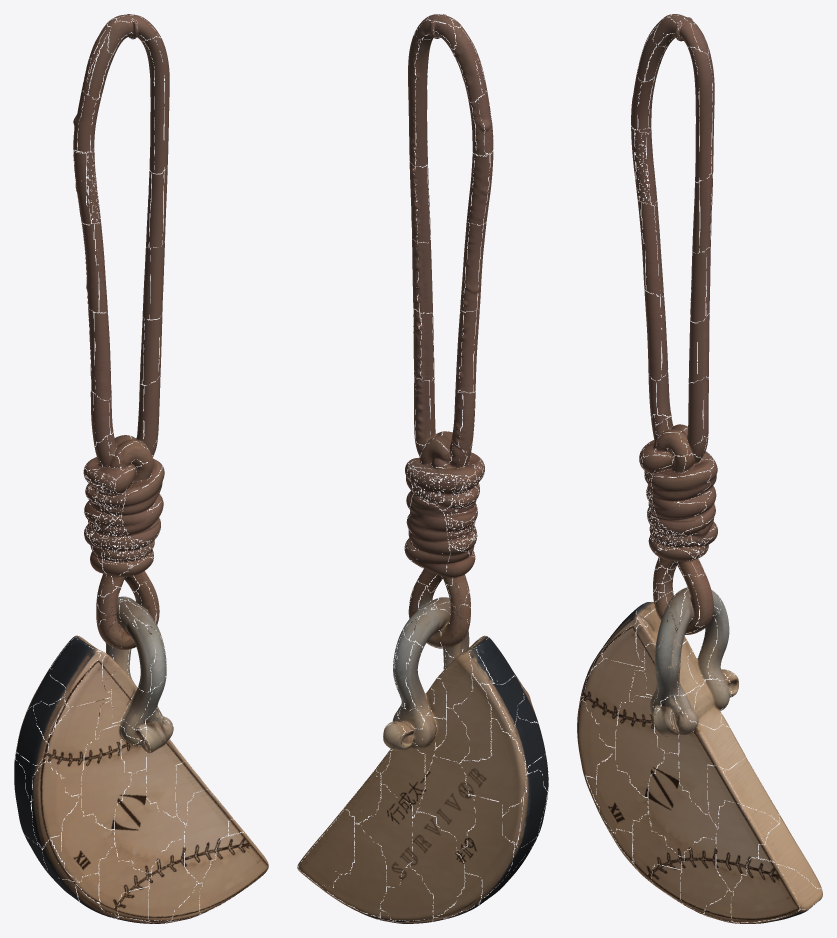
File: pendant-19.glb
3 renders of one model, left to right at view 1: azimuth 30°, elevation 25°; view 2: azimuth 150°, elevation 25°; view 3: azimuth 330°, elevation 25°, orthographic. The views are drawn at different scales.
Bounding box in the file's own units: 0.2773 × 1.02 × 0.1304.
1 material, 1 textured.
